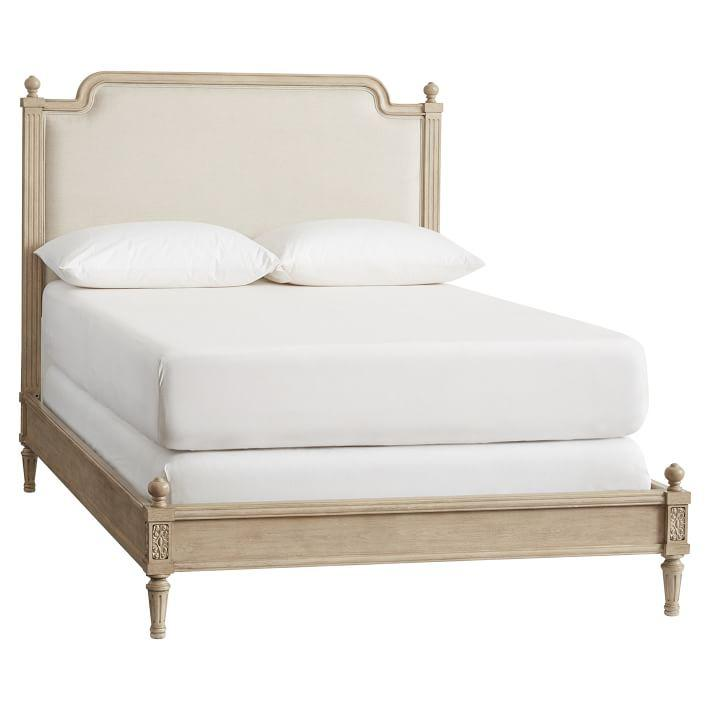bed: (18, 68, 689, 643)
